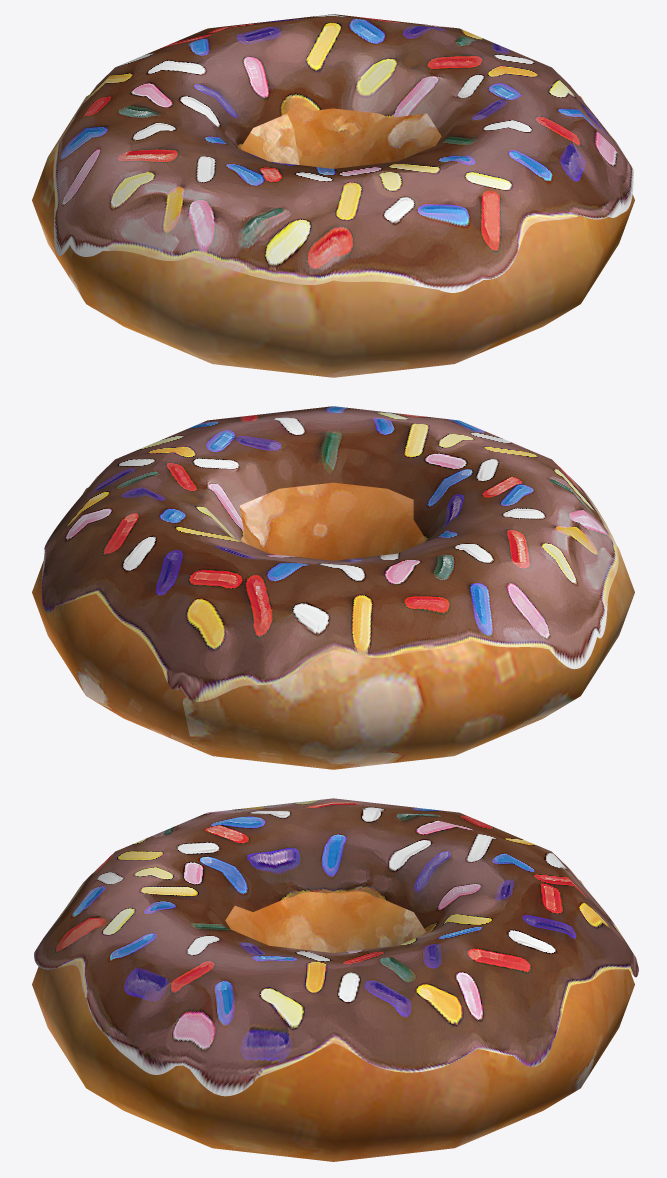
The model's file is donut.fbx.
The picture shows the model from 3 angles, top to bottom: view 1: azimuth 30°, elevation 25°; view 2: azimuth 150°, elevation 25°; view 3: azimuth 270°, elevation 25°; orthographic projection.
Parts seen in each view (by area): view 1: donut_msh; view 2: donut_msh; view 3: donut_msh.
Part boxes in pixels (x1,y1,x2,y2): donut_msh: [32, 14, 634, 377]; donut_msh: [32, 406, 634, 769]; donut_msh: [32, 798, 638, 1161].
Bounding box in the file's own units: 2.16 × 0.7097 × 2.16.
